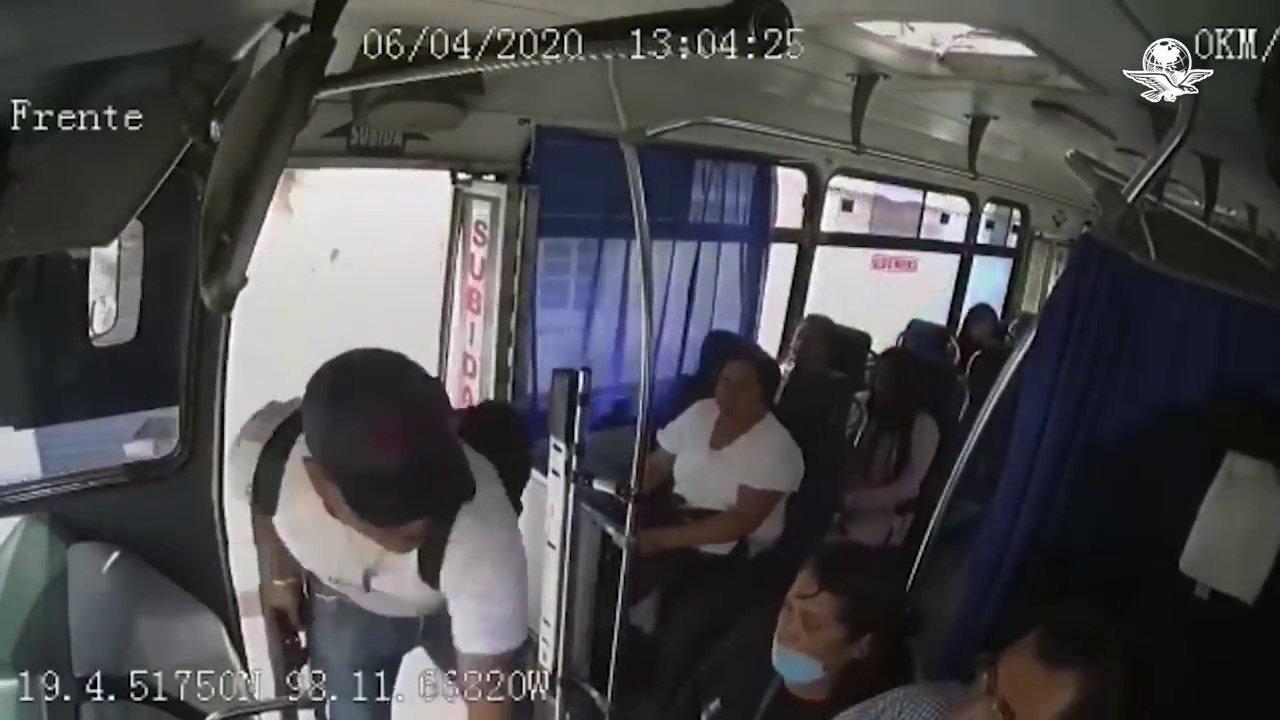pistol: (268, 598, 313, 696)
